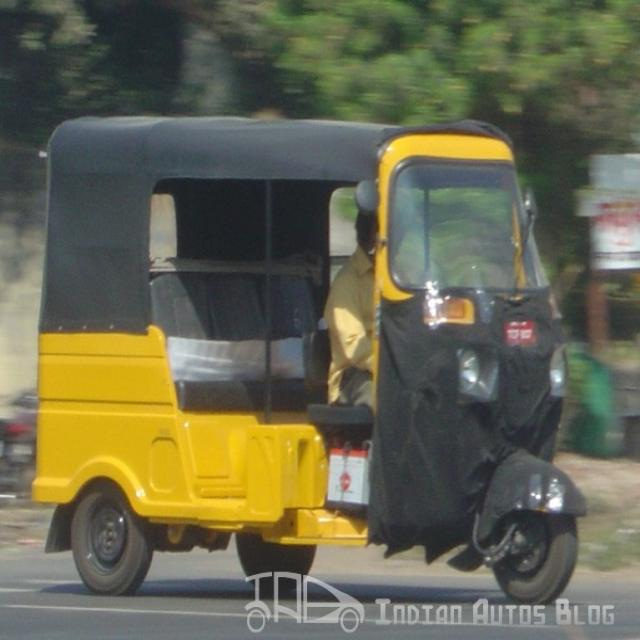autorickshaw: (32, 118, 586, 603)
